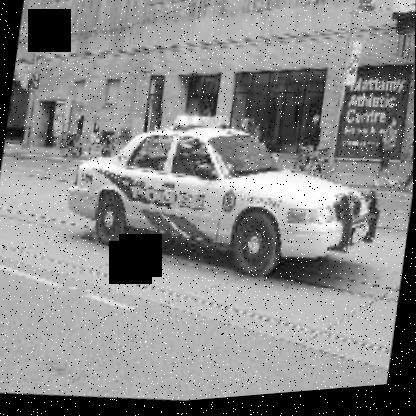emergency: (56, 86, 397, 300)
